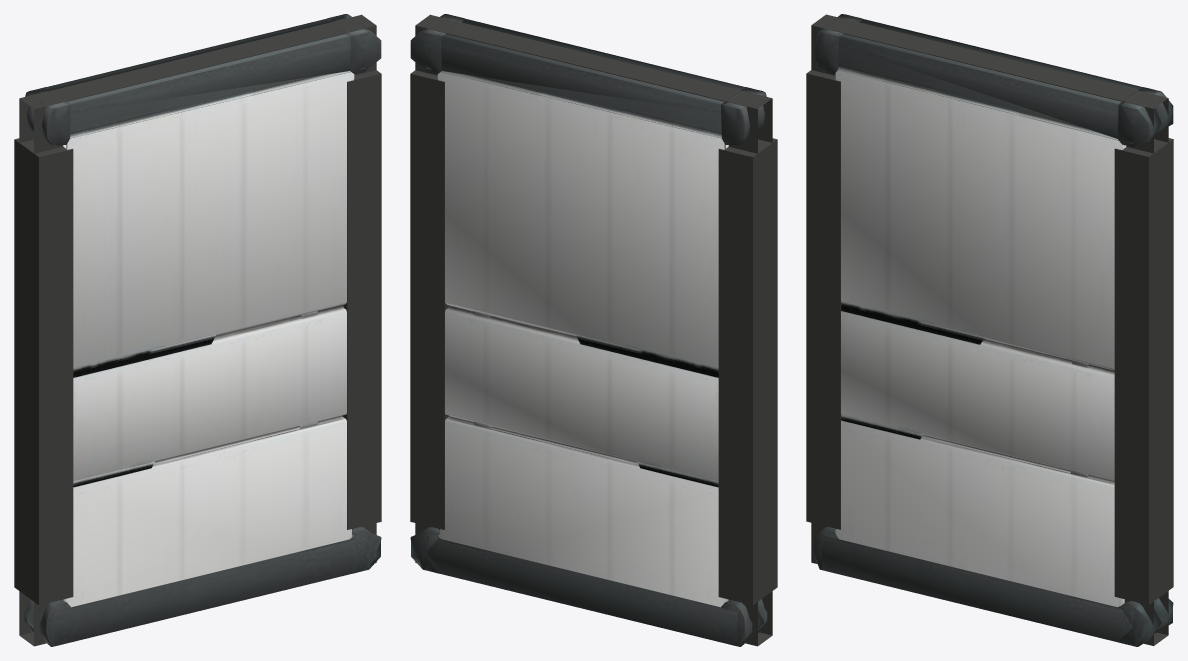
File: wall.glb
The picture shows the model from 3 angles, left to right: view 1: azimuth 30°, elevation 25°; view 2: azimuth 150°, elevation 25°; view 3: azimuth 330°, elevation 25°; orthographic projection.
Bounding box in the file's own units: 2 × 3 × 0.25.
1 material, 1 textured.
